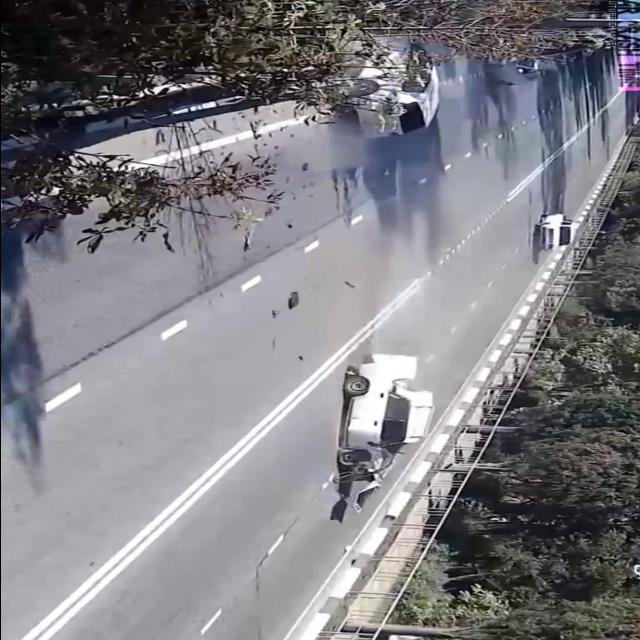accident: (306, 344, 450, 516)
